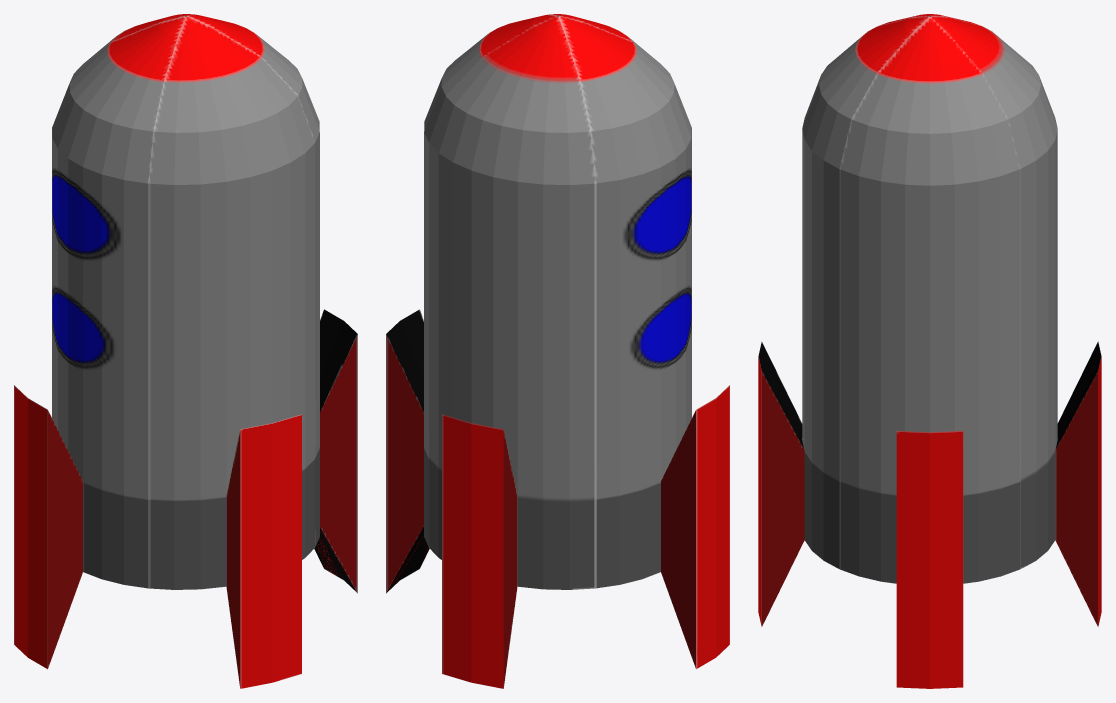
Rendered from Rocket.obj.
3 views of the same model, side by side, from view 1: azimuth 30°, elevation 25°; view 2: azimuth 150°, elevation 25°; view 3: azimuth 270°, elevation 25° (orthographic).
Visible parts, largest first — view 1: Circle_Circle.001; view 2: Circle_Circle.001; view 3: Circle_Circle.001.
Boxes of the visible parts, box(x1,y1,x2,y2) form: Circle_Circle.001: box(14, 14, 357, 688); Circle_Circle.001: box(386, 14, 729, 688); Circle_Circle.001: box(758, 14, 1101, 688).
Size of the model in its own units: 1.88 by 3.42 by 1.79.
